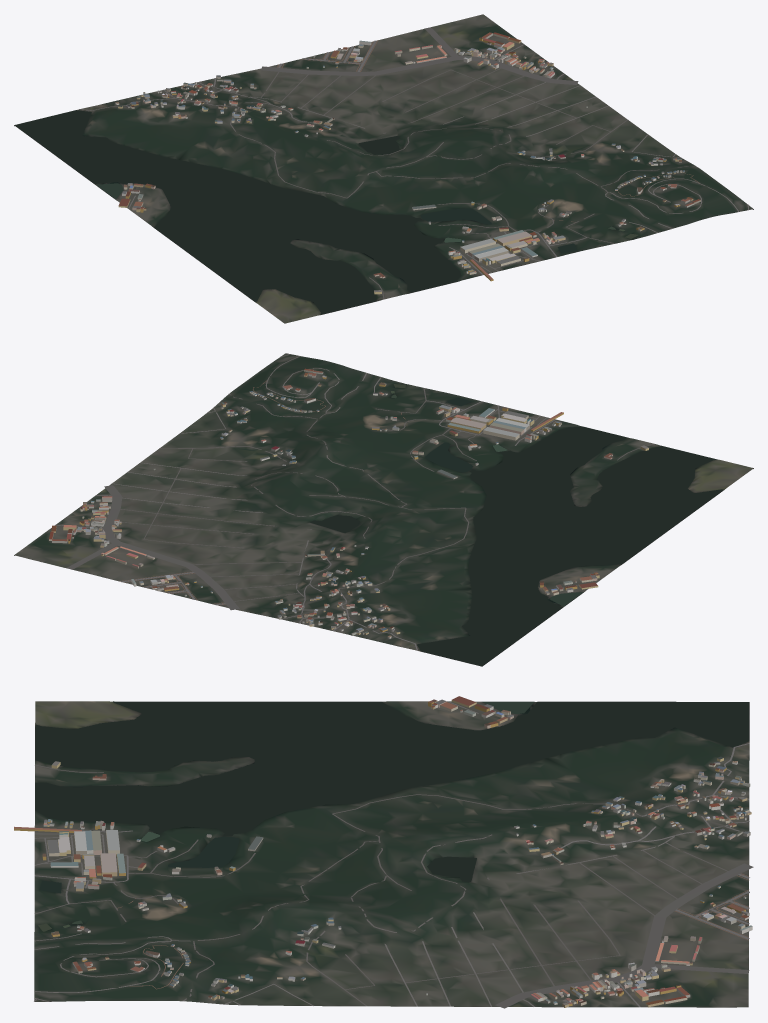
3 renders of one model, top to bottom at view 1: azimuth 30°, elevation 25°; view 2: azimuth 150°, elevation 25°; view 3: azimuth 270°, elevation 25°, orthographic. The views are drawn at different scales.
Parts seen in each view (by area): view 1: ground, water, buildings, roads; view 2: ground, water, buildings, roads; view 3: ground, water, buildings, roads.
Part boxes in pixels (box(x1,y1,x2,y2)): ground: box(14, 14, 753, 323); water: box(15, 110, 638, 314); buildings: box(115, 32, 700, 294); roads: box(79, 27, 752, 299); ground: box(14, 353, 753, 666); water: box(310, 384, 723, 665); buildings: box(49, 368, 648, 638); roads: box(55, 353, 654, 650); ground: box(34, 701, 749, 1007); water: box(35, 701, 749, 931); buildings: box(14, 696, 752, 1007); roads: box(34, 701, 753, 1008).
Bounding box in the file's own units: 1424 × 39.72 × 1452.
